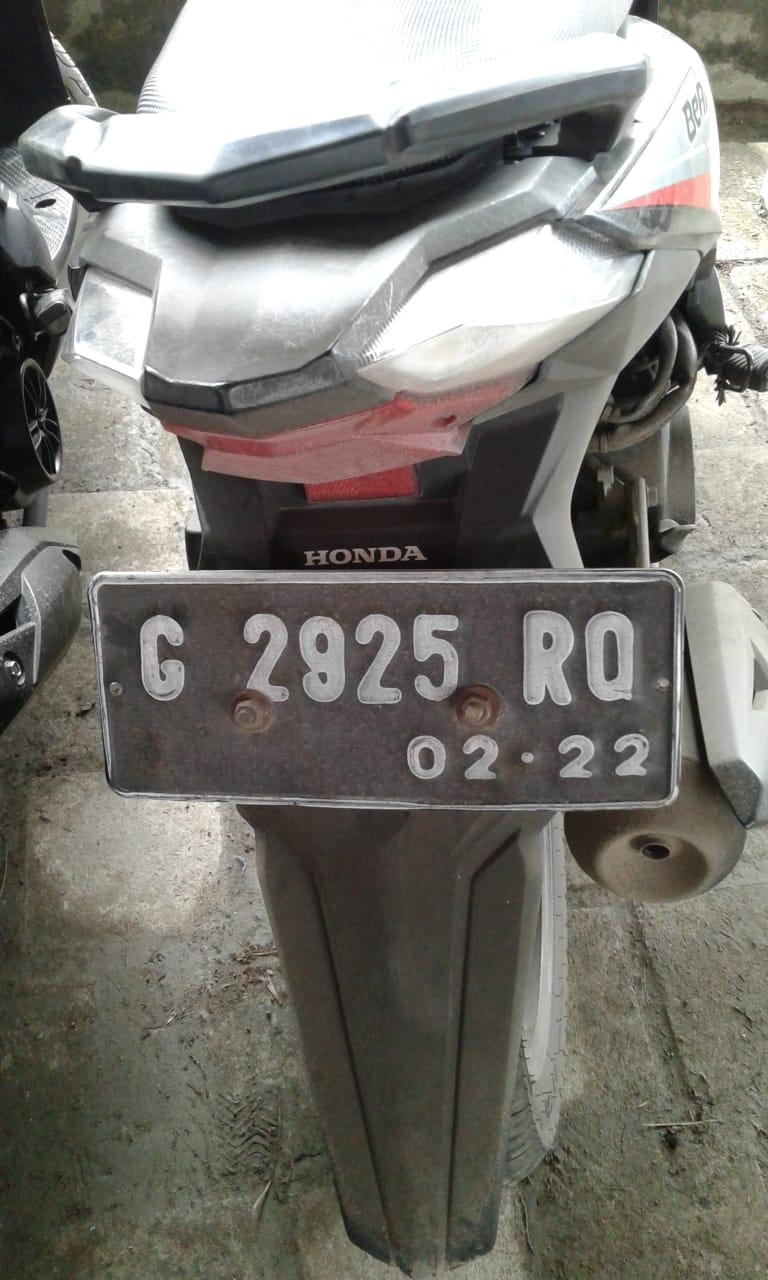plat: (90, 570, 682, 810)
